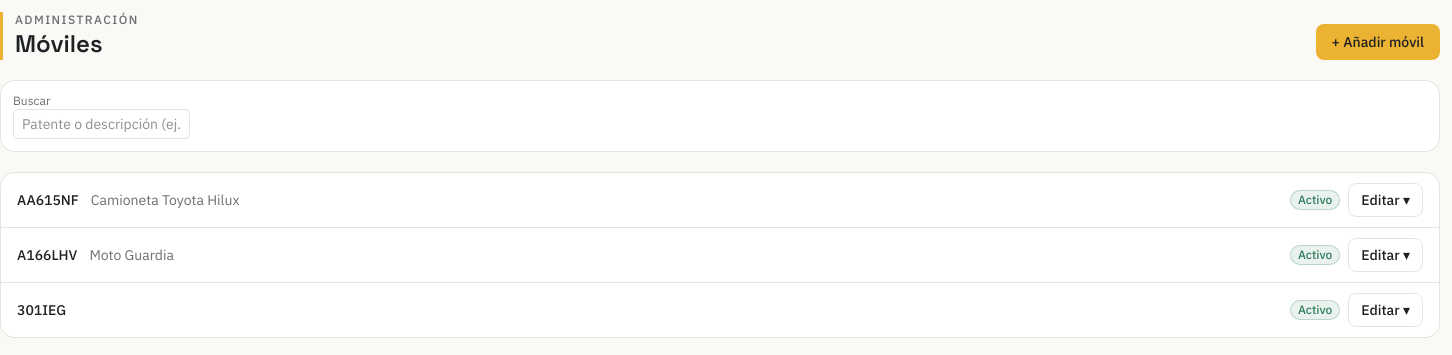
it: MovilesAdminPage › búsqueda por patente y descripción › la patente se encuentra aunque se tipee con guiones o espacios
The width and height of the screenshot is (1452, 355).
Type "aa-615" into the field named "Buscar móvil" at (102, 124), box 13,109 -> 190,139
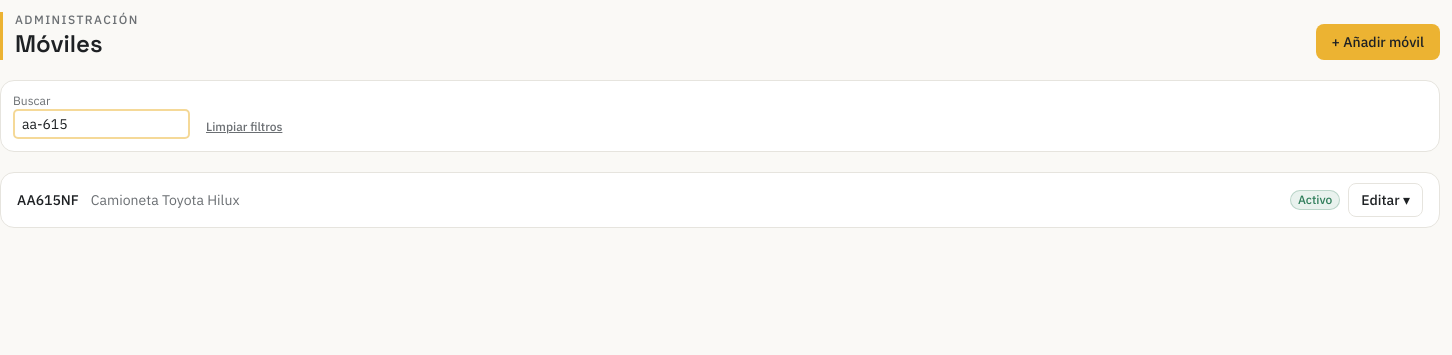
Expected: the text "AA615NF" is shown, 17,190 -> 79,210
Now the text "A166LHV" is gone
Now the text "301IEG" is gone
